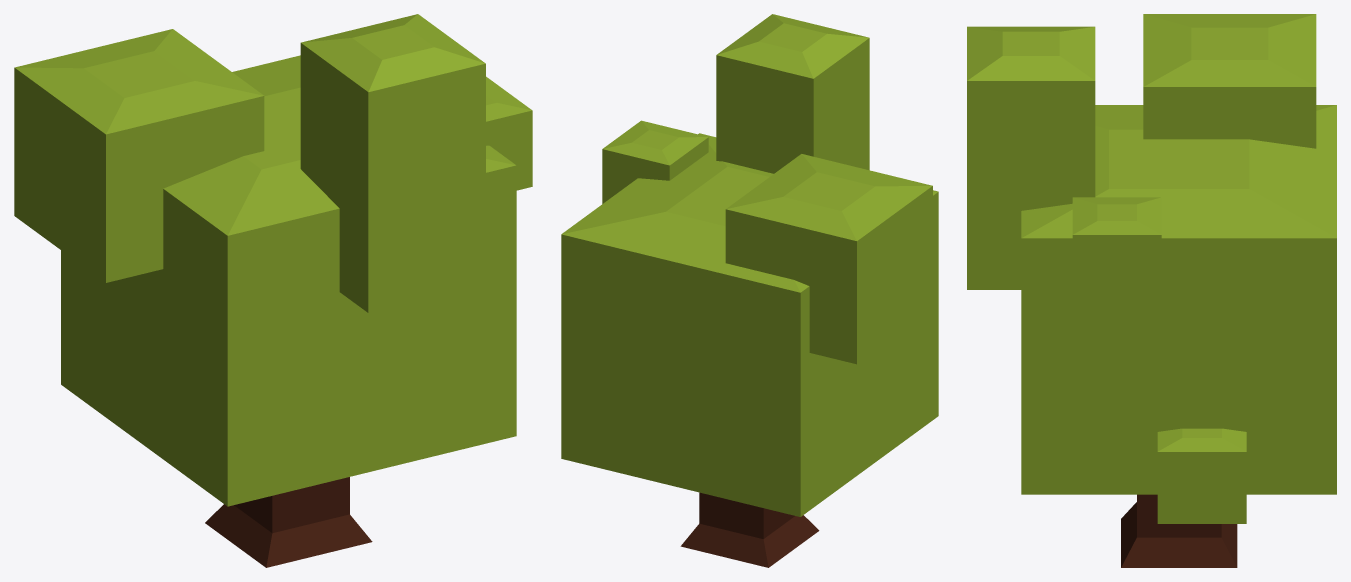
3 views of the same model, side by side, from view 1: azimuth 30°, elevation 25°; view 2: azimuth 150°, elevation 25°; view 3: azimuth 270°, elevation 25° (orthographic). The views are drawn at different scales.
Visible parts, largest first — view 1: Arbol4; view 2: Arbol4; view 3: Arbol4.
Part boxes in pixels (left/top/right/bottom): Arbol4: left=14, top=14, right=532, bottom=567; Arbol4: left=561, top=14, right=938, bottom=567; Arbol4: left=967, top=14, right=1336, bottom=567.
Size of the model in its own units: 207 by 275 by 180.
